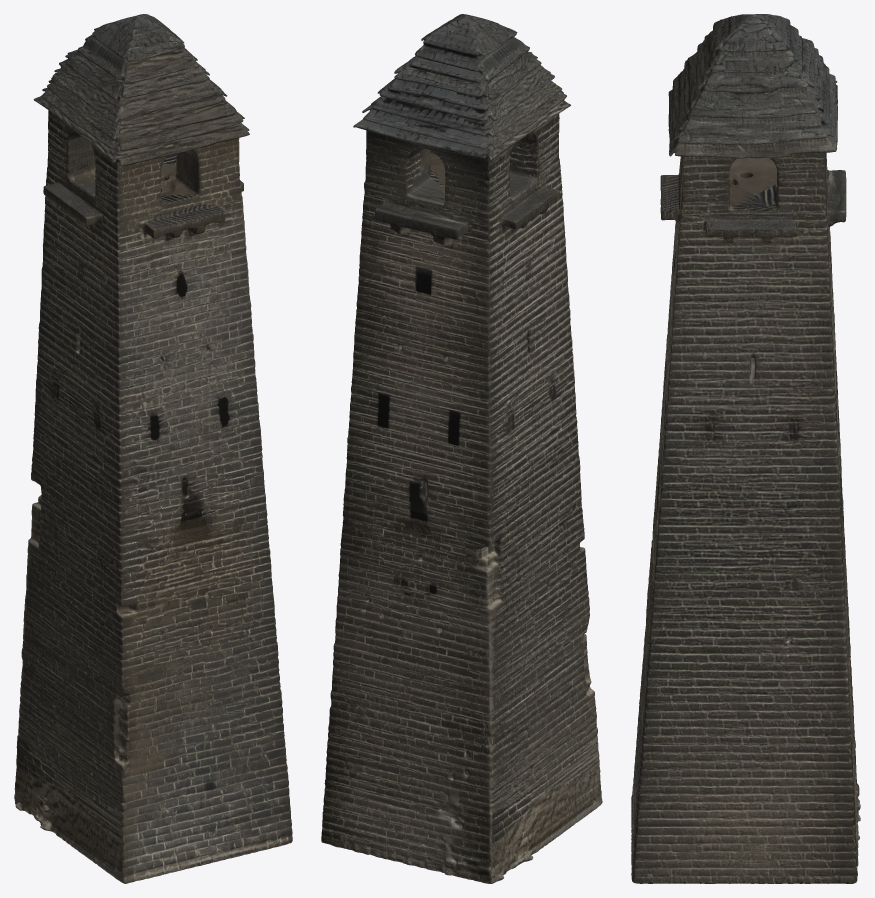
File: tower.glb
The picture shows the model from 3 angles, left to right: view 1: azimuth 30°, elevation 25°; view 2: azimuth 150°, elevation 25°; view 3: azimuth 270°, elevation 25°; orthographic projection.
Size of the model in its own units: 0.4389 by 1.9 by 0.4811.
Materials: 1 (1 with a texture image).
